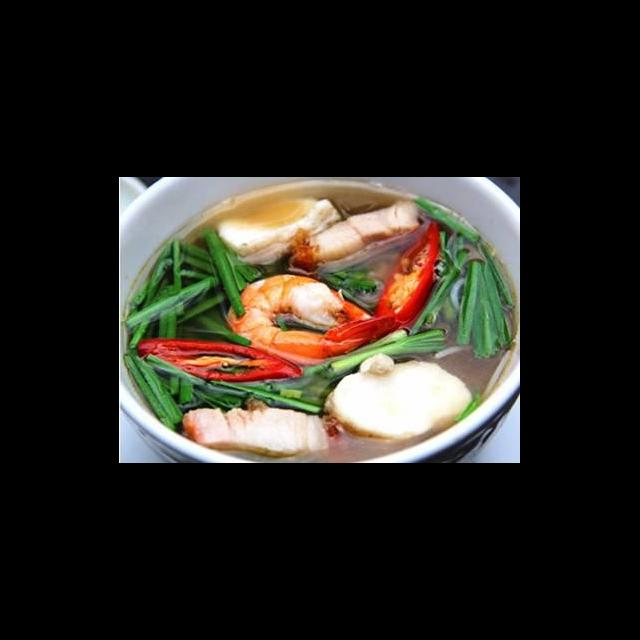ca: (322, 355, 478, 446)
thit heo quay: (286, 195, 424, 282), (178, 400, 338, 460)
tom: (222, 269, 402, 371)
